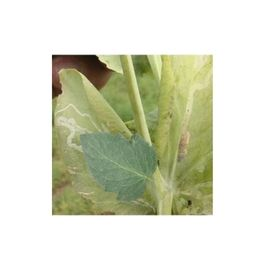liriomyza: (56, 106, 112, 153)
